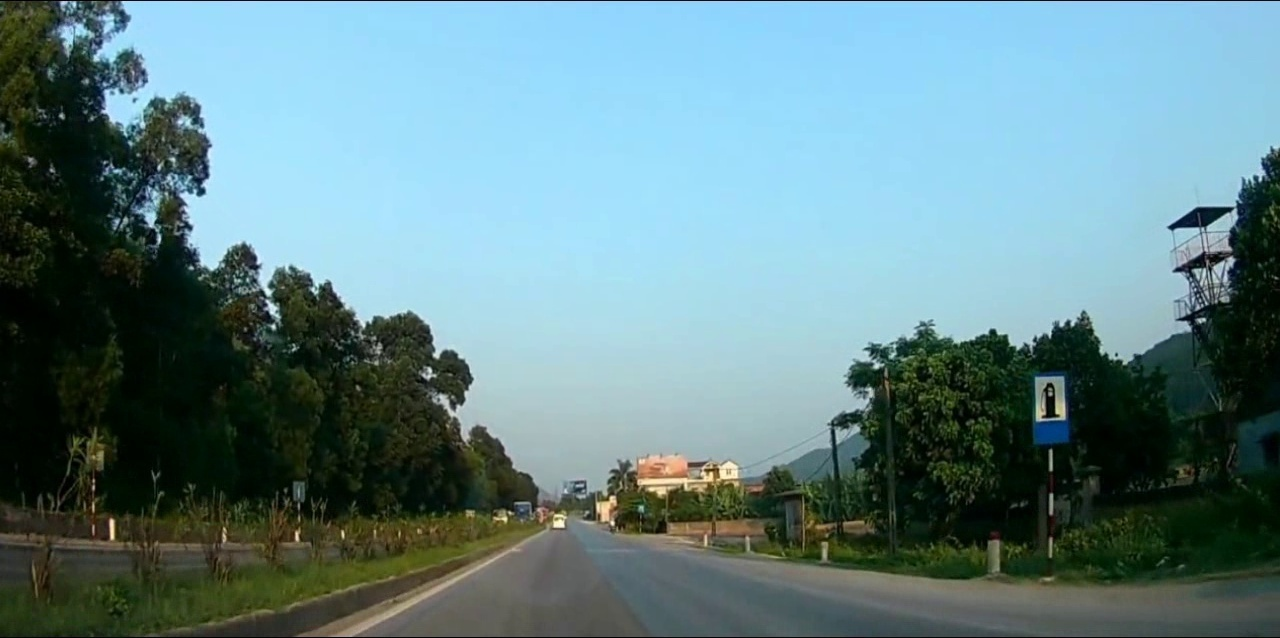Bien khac: (1032, 374, 1070, 445)
